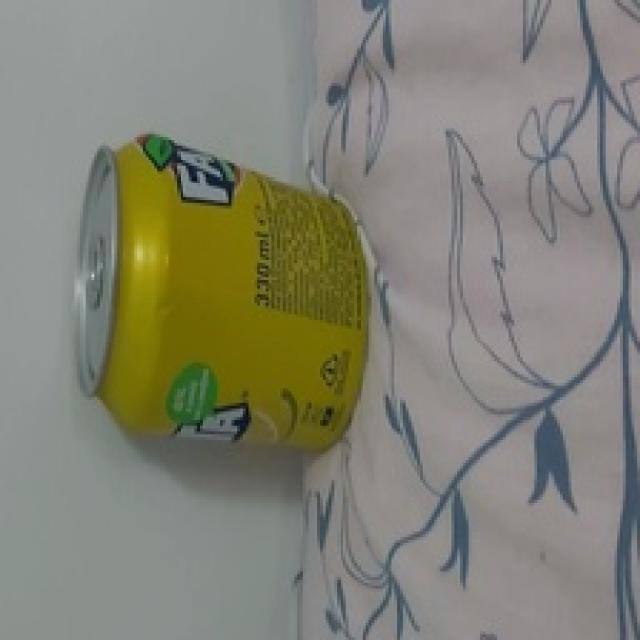recyclable: (72, 134, 370, 453)
